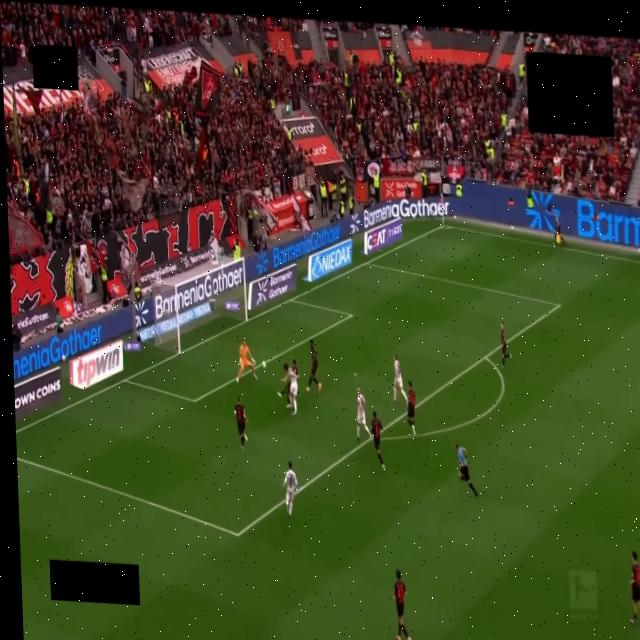ball: (262, 361, 266, 367)
player: (394, 570, 411, 639), (236, 341, 257, 382), (371, 412, 385, 469), (306, 340, 321, 392), (357, 388, 371, 440), (284, 462, 297, 516), (393, 355, 407, 402), (630, 551, 639, 624), (235, 397, 247, 447), (277, 364, 290, 407), (407, 381, 416, 434), (501, 323, 511, 366)
referee: (455, 444, 477, 497)
